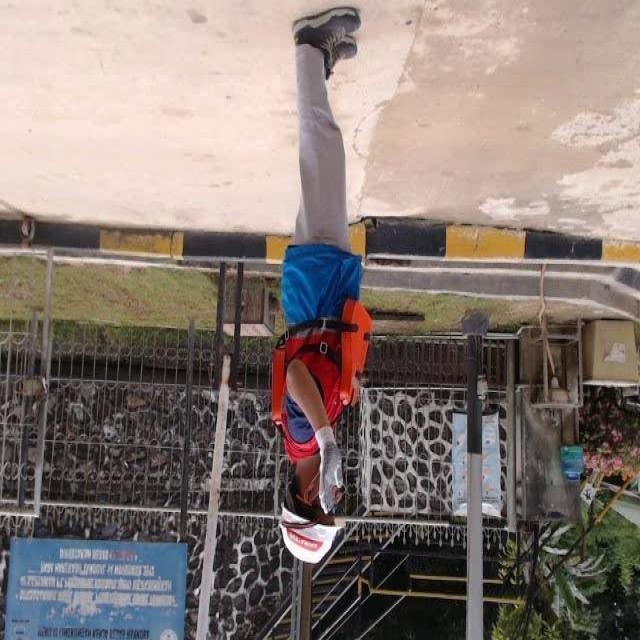Boots: (287, 4, 366, 56), (322, 36, 362, 87)
Gloves: (314, 426, 348, 515)
Helmet: (270, 500, 349, 573)
Vest: (268, 285, 379, 462)
